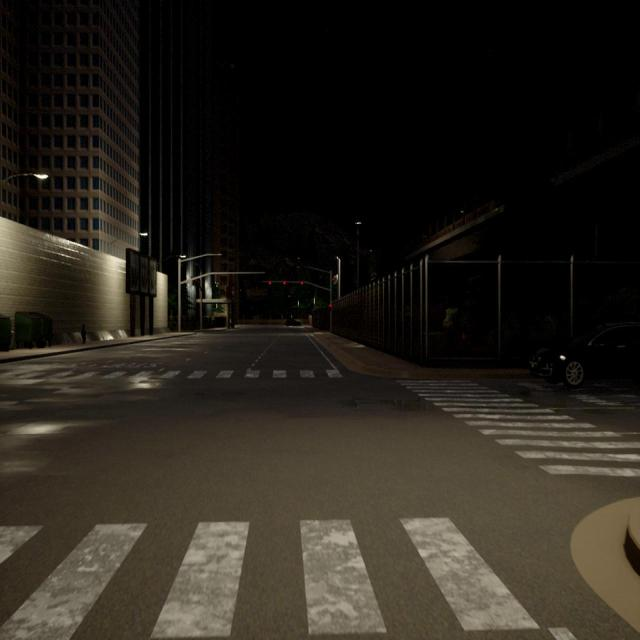Pedestrian: (80, 323, 87, 345)
Vehicle: (529, 323, 639, 392), (285, 318, 302, 327)
traffic_light: (329, 304, 332, 312), (268, 281, 271, 285), (283, 281, 286, 285), (301, 281, 303, 285)
